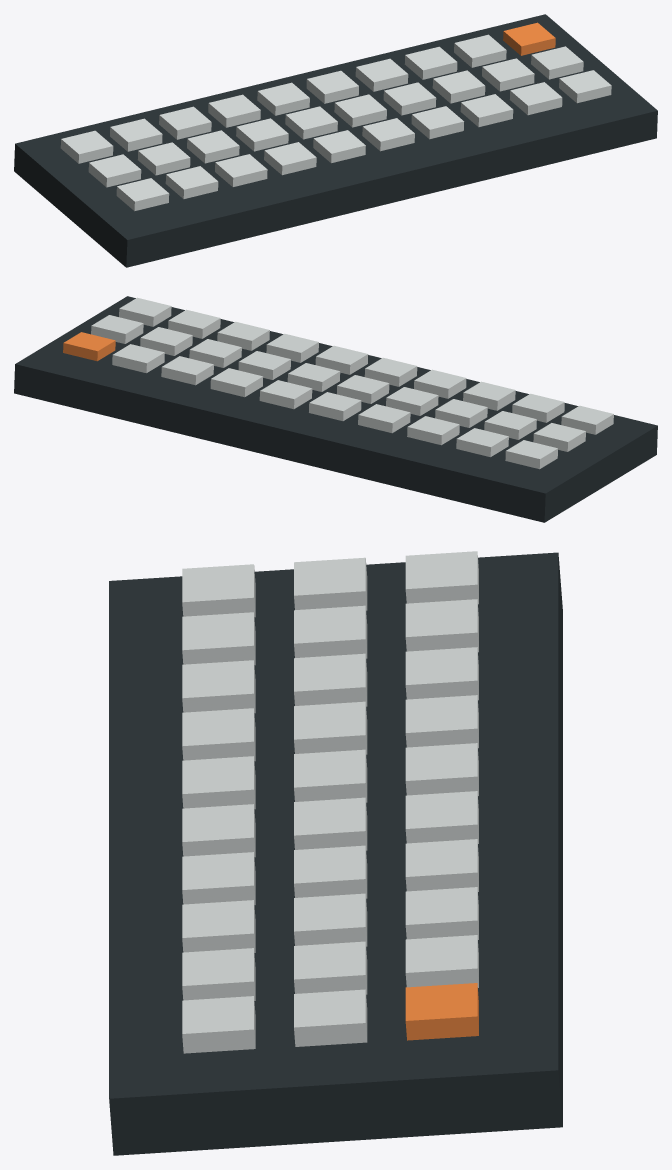
File: keyboard.glb
The picture shows the model from 3 angles, top to bottom: view 1: azimuth 30°, elevation 25°; view 2: azimuth 150°, elevation 25°; view 3: azimuth 270°, elevation 25°; orthographic projection. The views are drawn at different scales.
Parts seen in each view (by area): view 1: Keyboard body, Key 1-10, Key 2-3, Key 3-4, Key 3-5, Key 1-3, Key 1-8, Key 1-9, Key 2-2, Key 2-4, Key 2-5, Key 2-6 (+19 smaller); view 2: Keyboard body, Key 3-10, Key 3-1, Key 3-3, Key 3-8, Key 3-4, Key 3-5, Key 3-6, Key 3-2, Key 3-9, Key 3-7, Key 1-3 (+19 smaller); view 3: Keyboard body, Key 1-10, Key 2-10, Key 3-10, Key 1-1, Key 1-2, Key 1-3, Key 1-4, Key 1-5, Key 1-6, Key 3-2, Key 1-7 (+19 smaller).
Boxes of the visible parts, left/top/right/bottom form: Keyboard body: left=14, top=14, right=657, bottom=267; Key 1-10: left=559, top=70, right=611, bottom=103; Key 2-3: left=187, top=130, right=239, bottom=163; Key 3-4: left=208, top=94, right=260, bottom=127; Key 3-5: left=257, top=82, right=309, bottom=115; Key 1-3: left=215, top=154, right=267, bottom=186; Key 1-8: left=460, top=94, right=513, bottom=127; Key 1-9: left=509, top=82, right=562, bottom=115; Key 2-2: left=137, top=142, right=190, bottom=175; Key 2-4: left=236, top=118, right=288, bottom=151; Key 2-5: left=285, top=106, right=337, bottom=139; Key 2-6: left=334, top=94, right=386, bottom=127; Keyboard body: left=14, top=296, right=657, bottom=522; Key 3-10: left=63, top=332, right=115, bottom=361; Key 3-1: left=505, top=440, right=557, bottom=469; Key 3-3: left=407, top=416, right=459, bottom=445; Key 3-8: left=161, top=356, right=213, bottom=385; Key 3-4: left=358, top=404, right=410, bottom=433; Key 3-5: left=309, top=392, right=361, bottom=420; Key 3-6: left=259, top=380, right=312, bottom=409; Key 3-2: left=456, top=428, right=508, bottom=457; Key 3-9: left=112, top=344, right=164, bottom=373; Key 3-7: left=210, top=368, right=263, bottom=397; Key 1-3: left=463, top=381, right=515, bottom=410; Keyboard body: left=109, top=552, right=562, bottom=1155; Key 1-10: left=182, top=996, right=255, bottom=1053; Key 2-10: left=294, top=989, right=367, bottom=1046; Key 3-10: left=405, top=983, right=478, bottom=1040; Key 1-1: left=182, top=564, right=255, bottom=617; Key 1-2: left=182, top=612, right=255, bottom=665; Key 1-3: left=182, top=660, right=255, bottom=713; Key 1-4: left=182, top=708, right=255, bottom=761; Key 1-5: left=182, top=756, right=255, bottom=809; Key 1-6: left=182, top=804, right=255, bottom=857; Key 3-2: left=405, top=599, right=478, bottom=652; Key 1-7: left=182, top=852, right=255, bottom=905.
Bounding box in the file's own units: 0.68 × 0.0686 × 0.2518.
